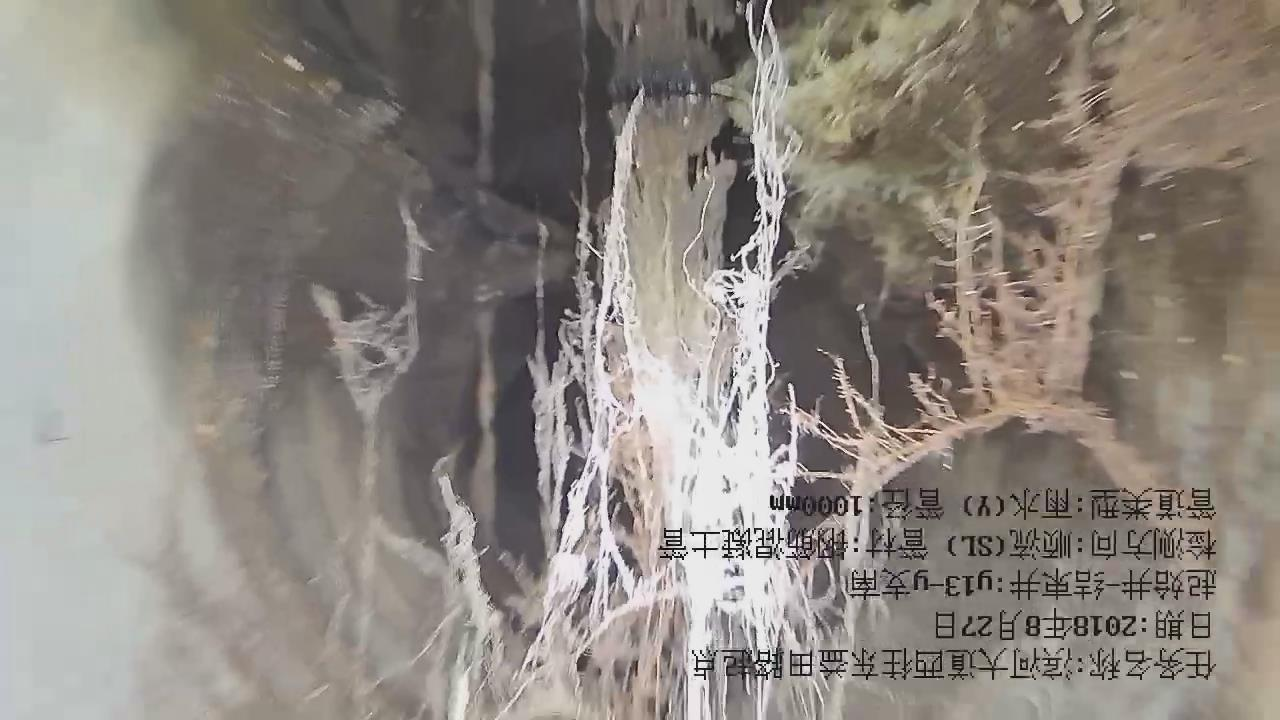SG: (315, 1, 1234, 720)
